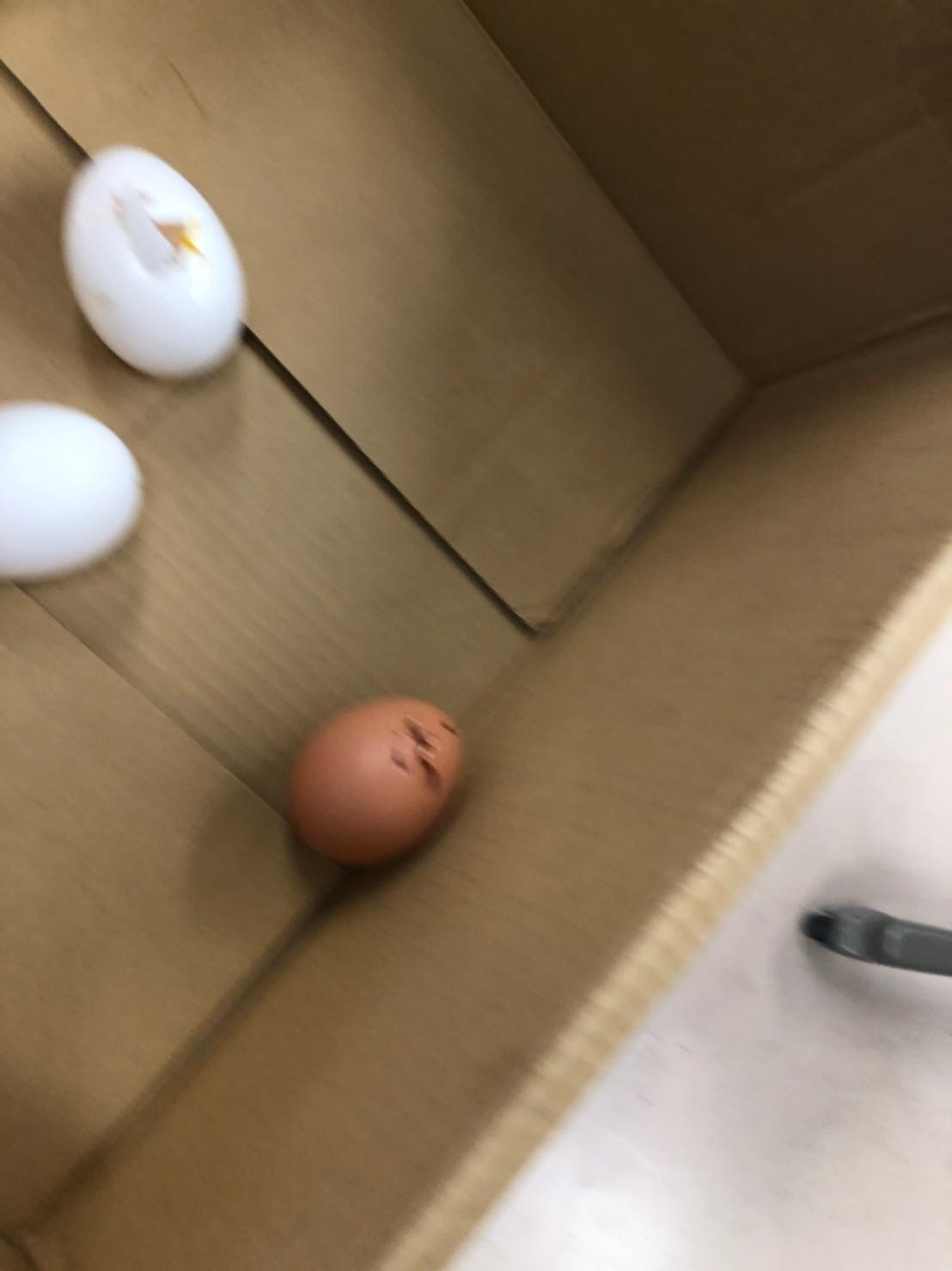egg: (285, 687, 472, 863)
